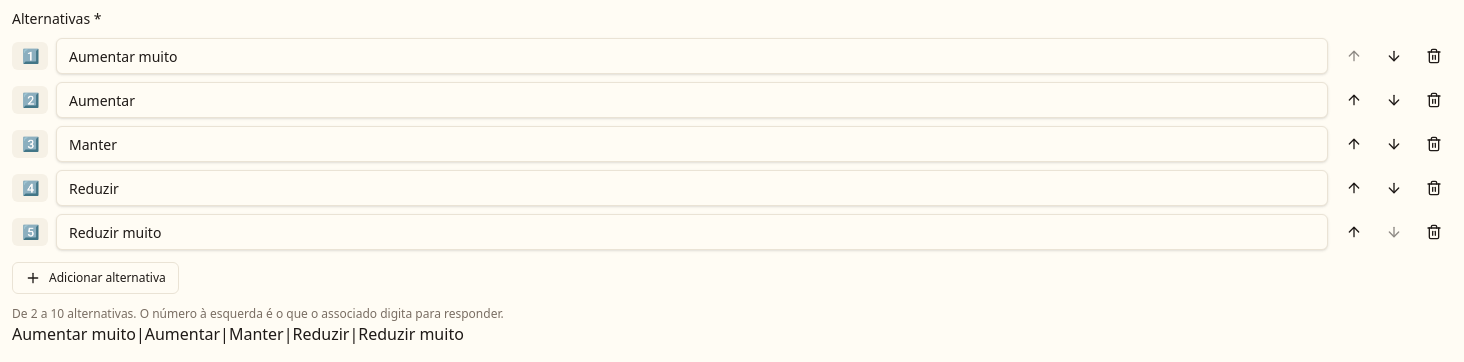
Test case: reordenação (§17) › mover para cima troca com o vizinho de cima
The image size is (1464, 362).
// O exemplo do §17: 1,2,3,4,5 vira 1,3,2,4,5.
Click the button named "mover \"Manter\" para cima".
click(1354, 144)  # box x1=1336 y1=126 x2=1372 y2=162
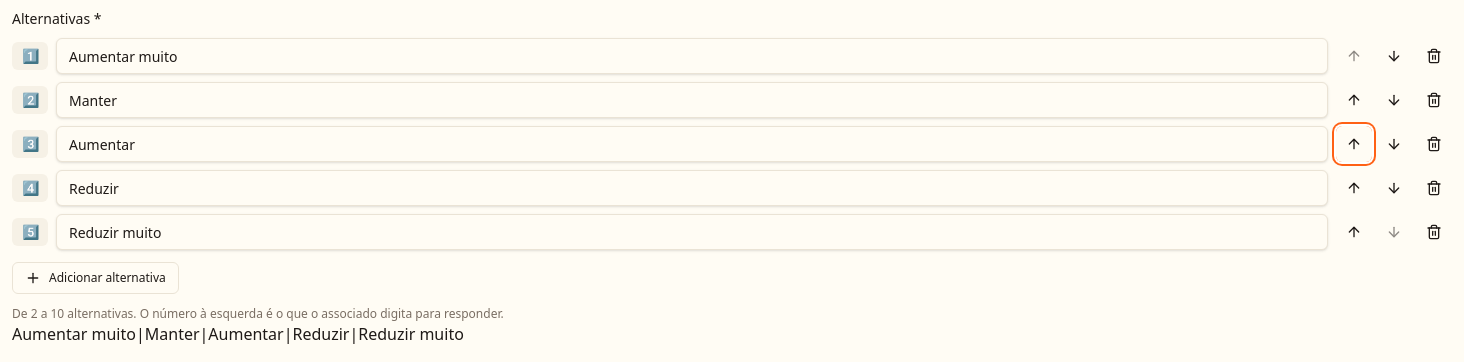
Result: the text with test id "ordem" reads "Aumentar muito|Manter|Aumentar|Reduzir|Reduzir muito" at x1=12 y1=323 x2=464 y2=345
